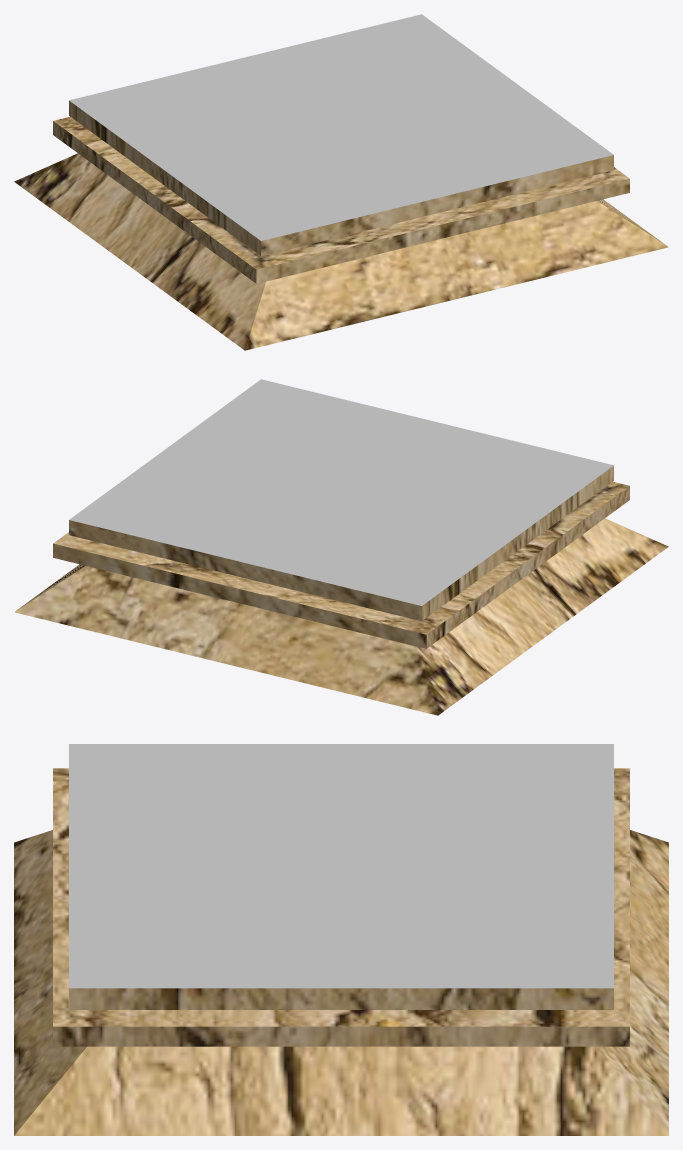
Rendered from Dungeon_3_Platform.fbx.
3 views of the same model, one above another, from view 1: azimuth 30°, elevation 25°; view 2: azimuth 150°, elevation 25°; view 3: azimuth 270°, elevation 25° (orthographic). The views are drawn at different scales.
Parts seen in each view (by area): view 1: pCube69; view 2: pCube69; view 3: pCube69.
Boxes of the visible parts, x1,y1,x2,y2 form: pCube69: (14,14,668,350); pCube69: (14,379,668,715); pCube69: (14,744,668,1135).
Bounding box in the file's own units: 1023 × 200 × 965.
